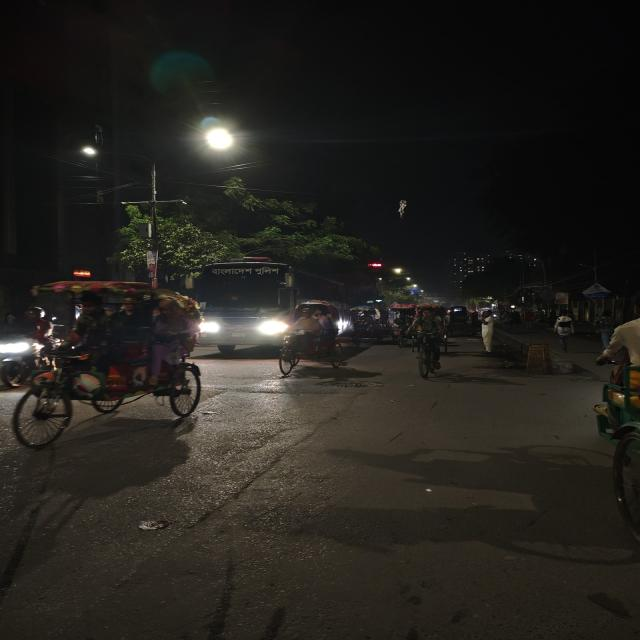bicycle: (406, 306, 453, 380)
bus: (189, 256, 324, 356)
pedestrian: (472, 305, 516, 357), (548, 310, 587, 352)
rickshaw: (4, 268, 211, 452), (273, 310, 350, 377), (337, 305, 392, 349)
